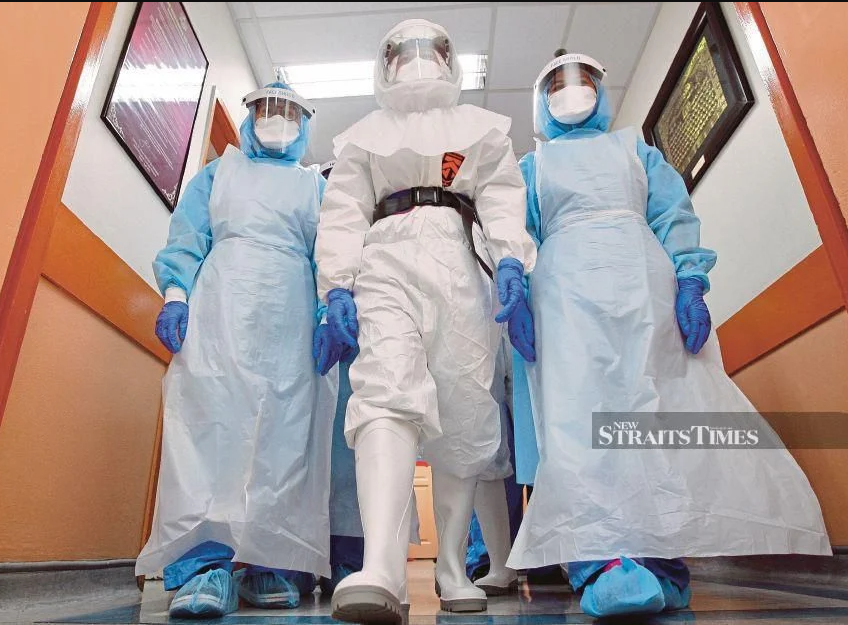Coverall: (315, 18, 533, 546), (507, 50, 719, 571), (149, 80, 335, 562)
Gloves: (666, 266, 713, 353), (319, 279, 365, 348), (152, 283, 189, 353), (493, 249, 526, 322), (509, 309, 546, 364)
with_mask: (543, 73, 600, 127), (253, 99, 302, 153)
